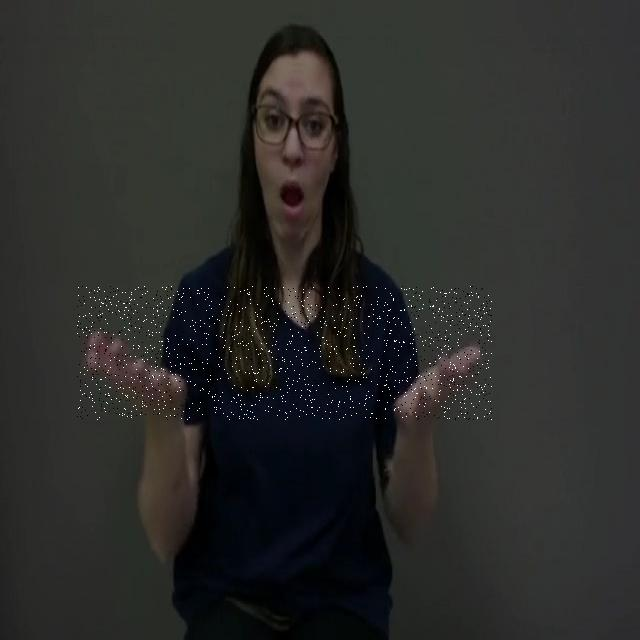what: (77, 286, 492, 420)
